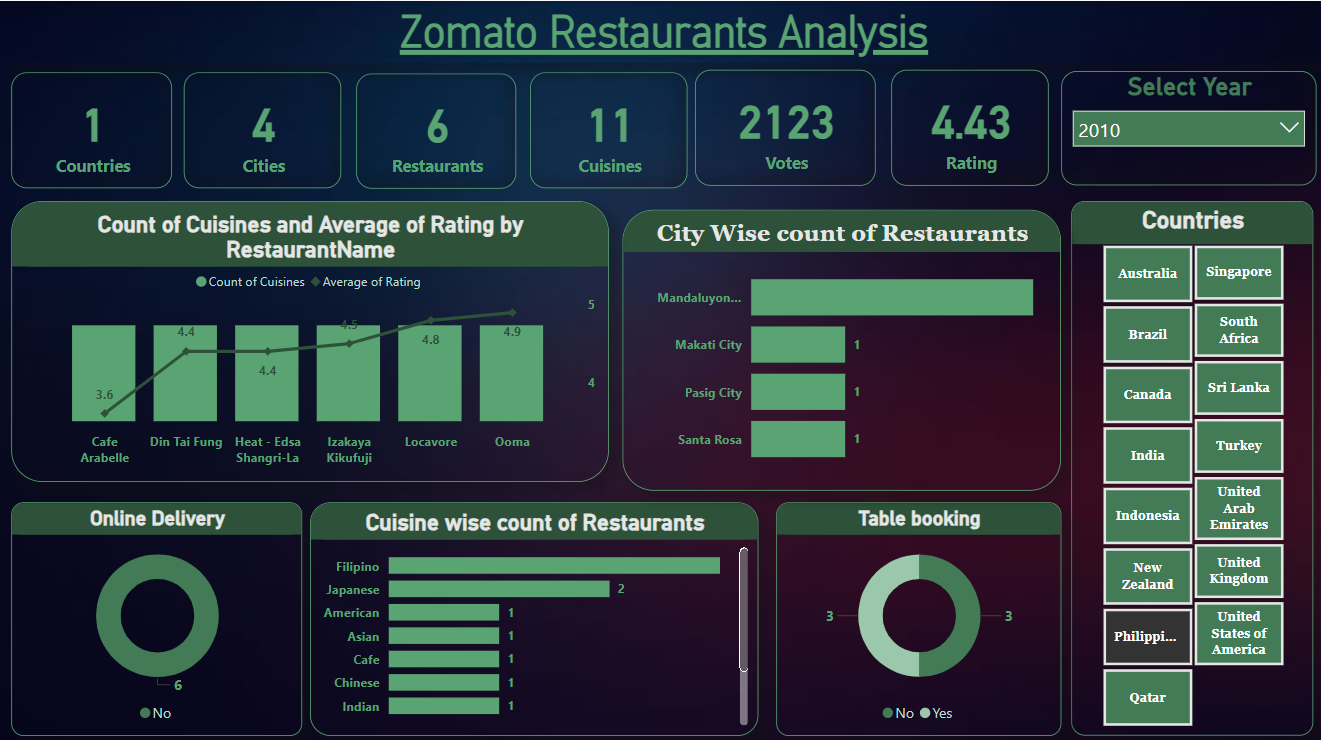

The dashboard page shown, as its layout file describes it:
{"tool":"powerbi","page":{"name":"Dashboard","canvas":[1280,720],"ordinal":0},"visuals":[{"type":"slicer","title":"Countries","fields":{"Values":["Sheet2.country name"]},"box":[1033.8,192.5,233.8,516.2],"z":0},{"type":"card","fields":{"Values":["CountNonNull(Sheet2.countryID)"]},"box":[10.9,68.7,155.6,112.2],"z":2000},{"type":"card","fields":{"Values":["Count(Sheet1.Cuisines)"]},"box":[511.4,68.7,152,112.2],"z":3000},{"type":"card","fields":{"Values":["Count(Sheet1.RestaurantID)"]},"box":[343.7,69.9,154.4,111],"z":4000},{"type":"card","fields":{"Values":["Count(Sheet1.City)"]},"box":[177.3,68.7,152,112.2],"z":5000},{"type":"textbox","box":[1.5,0,1279.2,60.3],"z":6000},{"type":"donutChart","title":"Table booking ","fields":{"Category":["cuisines copy.Has_Table_booking"],"Y":["CountNonNull(cuisines copy.Has_Table_booking)"]},"box":[748.9,483.6,275,225.5],"z":7000},{"type":"donutChart","title":"Online Delivery","fields":{"Category":["cuisines copy.Has_Online_delivery"],"Y":["CountNonNull(cuisines copy.Has_Online_delivery)"]},"box":[10.9,483.6,281,225.5],"z":8000},{"type":"clusteredBarChart","title":"Cuisine wise count of Restaurants","fields":{"Category":["Sheet1.Column"],"Y":["CountNonNull(Sheet1.Cuisines)"]},"box":[299.1,483.6,433,225.5],"z":9000},{"type":"clusteredBarChart","title":"City Wise count of Restaurants","fields":{"Category":["cuisines copy.City"],"Y":["CountNonNull(cuisines copy.RestaurantID)"]},"box":[600.6,201.4,423.3,271.4],"z":10000},{"type":"lineStackedColumnComboChart","fields":{"Category":["cuisines copy.RestaurantName"],"Y":["CountNonNull(cuisines copy.Cuisines)"],"Y2":["Avg(cuisines copy.Rating)"]},"box":[10.9,193,576.5,271.4],"z":11000},{"type":"slicer","title":"Select Year","fields":{"Values":["cuisines copy.new datekey.Variation.Date Hierarchy.Year","cuisines copy.new datekey.Variation.Date Hierarchy.Quarter","cuisines copy.new datekey.Variation.Date Hierarchy.Month","cuisines copy.new datekey.Variation.Date Hierarchy.Day"]},"box":[1023.8,67.5,246.2,110],"z":13000},{"type":"card","fields":{"Values":["Sum(cuisines copy.Votes)"]},"box":[670.9,66.3,174.4,111.6],"z":14000},{"type":"card","fields":{"Values":["Avg(cuisines copy.Rating)"]},"box":[860.5,66.3,152.3,111.6],"z":15000}]}

Visuals, with their boxes in screenshot pixels (x1, y1, x2, y2), scaled from the page's 1280x720 canvas onto the 1321x740 screenshot:
"Countries" slicer: left=1067, top=198, right=1308, bottom=728
card - CountNonNull(Sheet2.countryID): left=11, top=71, right=172, bottom=186
card - Count(Sheet1.Cuisines): left=528, top=71, right=685, bottom=186
card - Count(Sheet1.RestaurantID): left=355, top=72, right=514, bottom=186
card - Count(Sheet1.City): left=183, top=71, right=340, bottom=186
textbox: left=2, top=0, right=1320, bottom=62
"Table booking " donutChart: left=773, top=497, right=1057, bottom=729
"Online Delivery" donutChart: left=11, top=497, right=301, bottom=729
"Cuisine wise count of Restaurants" clusteredBarChart: left=309, top=497, right=756, bottom=729
"City Wise count of Restaurants" clusteredBarChart: left=620, top=207, right=1057, bottom=486
lineStackedColumnComboChart - cuisines copy.RestaurantName x CountNonNull(cuisines copy.Cuisines): left=11, top=198, right=606, bottom=477
"Select Year" slicer: left=1057, top=69, right=1311, bottom=182
card - Sum(cuisines copy.Votes): left=692, top=68, right=872, bottom=183
card - Avg(cuisines copy.Rating): left=888, top=68, right=1045, bottom=183
